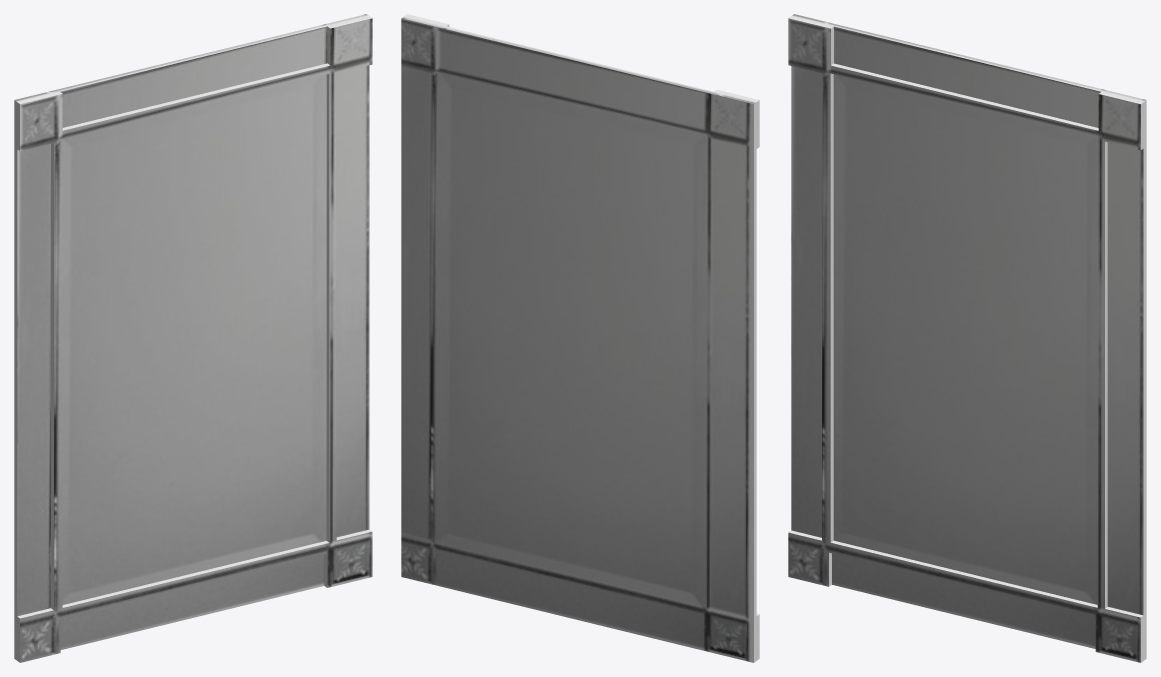
File: specchio.glb
3 views of the same model, side by side, from view 1: azimuth 30°, elevation 25°; view 2: azimuth 150°, elevation 25°; view 3: azimuth 330°, elevation 25° (orthographic).
Parts seen in each view (by area): view 1: Geom3D; view 2: Geom3D; view 3: Geom3D.
Boxes of the visible parts, box(x1,y1,x2,y2) form: Geom3D: box(14, 14, 372, 662); Geom3D: box(401, 14, 759, 662); Geom3D: box(788, 14, 1146, 662).
Size of the model in its own units: 0.7 by 1.06 by 0.02.
1 material, 1 textured.
